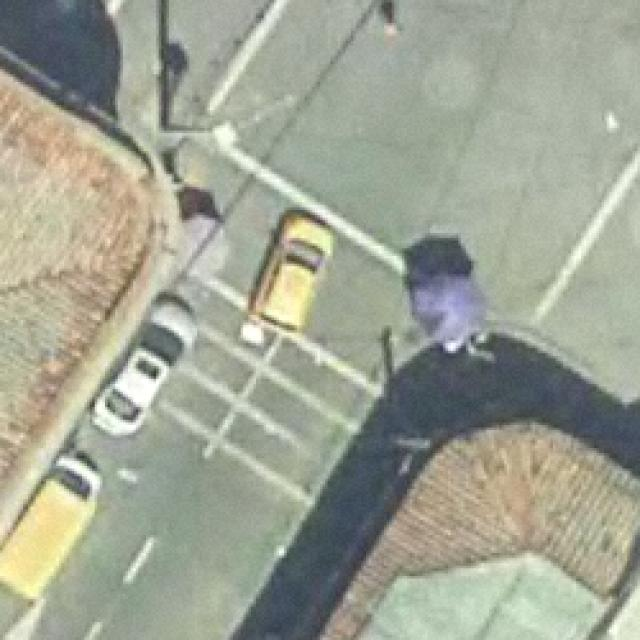vendedor_ambulante: (408, 268, 493, 352), (176, 212, 232, 278)
